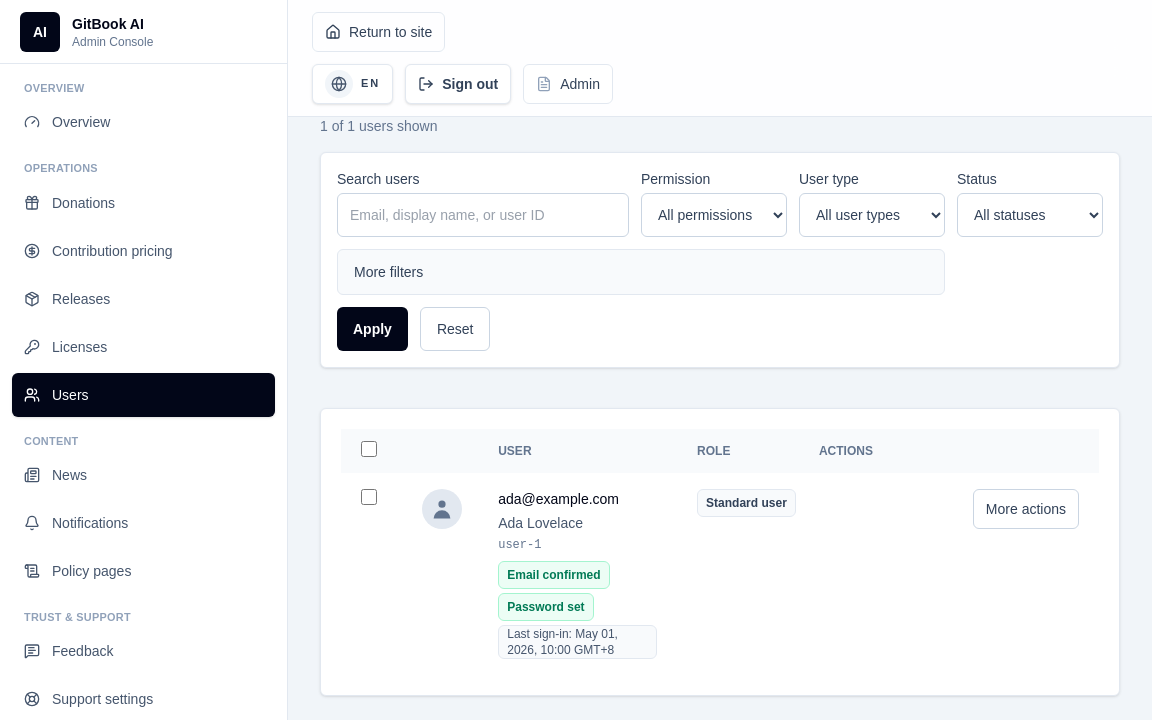
admin pages › renders user roles as read-only on the users page for owner admins while keeping bulk role changes
(page scrolled)
Click the checkbox named "Select ada@example.com".
click(369, 497)  # box [361, 489, 377, 505]
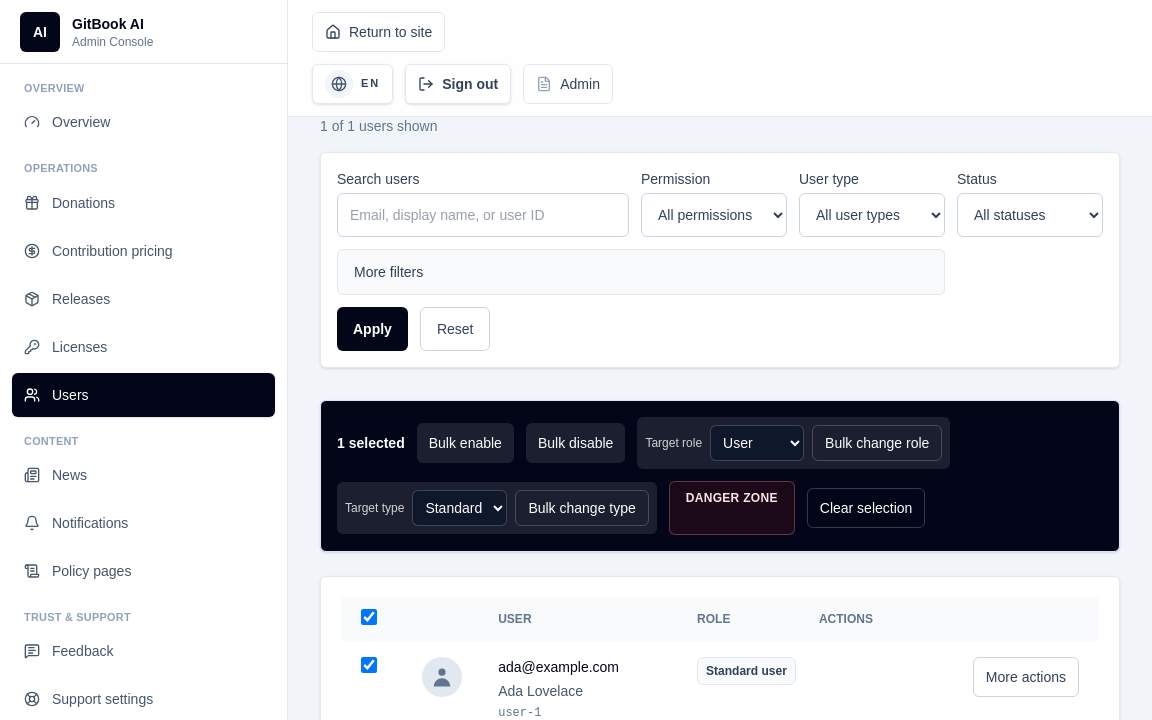
Expected: the number of dropdowns labelled "Target role" is 2
Expected: the button "Bulk change role" is shown, [812, 425, 942, 461]
